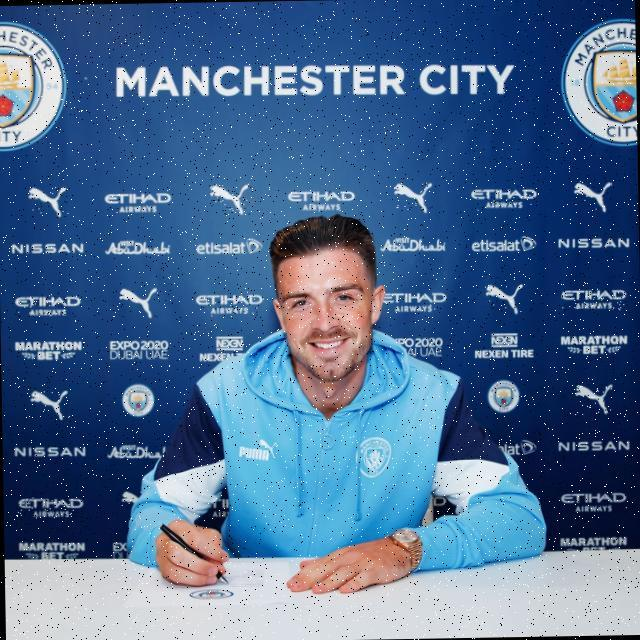Etihad Airways: (194, 291, 264, 316), (384, 287, 447, 314), (14, 292, 82, 317), (102, 190, 172, 214), (471, 186, 537, 211), (287, 189, 357, 212), (17, 495, 84, 518), (560, 490, 627, 513), (562, 288, 627, 311)
Puma: (571, 177, 612, 213), (208, 181, 251, 215), (29, 386, 70, 421), (483, 282, 525, 316), (393, 179, 434, 213), (28, 187, 71, 218), (117, 288, 158, 320), (574, 383, 613, 415), (239, 437, 277, 461), (118, 488, 143, 508)
